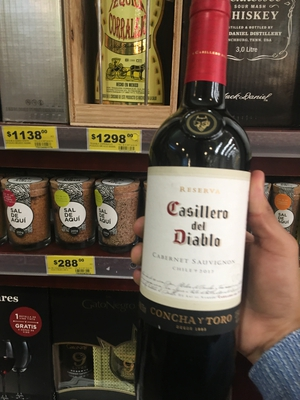casillero del diablo cabernet sauvignon: (124, 25, 267, 400)
